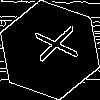X: (25, 25, 78, 66)
